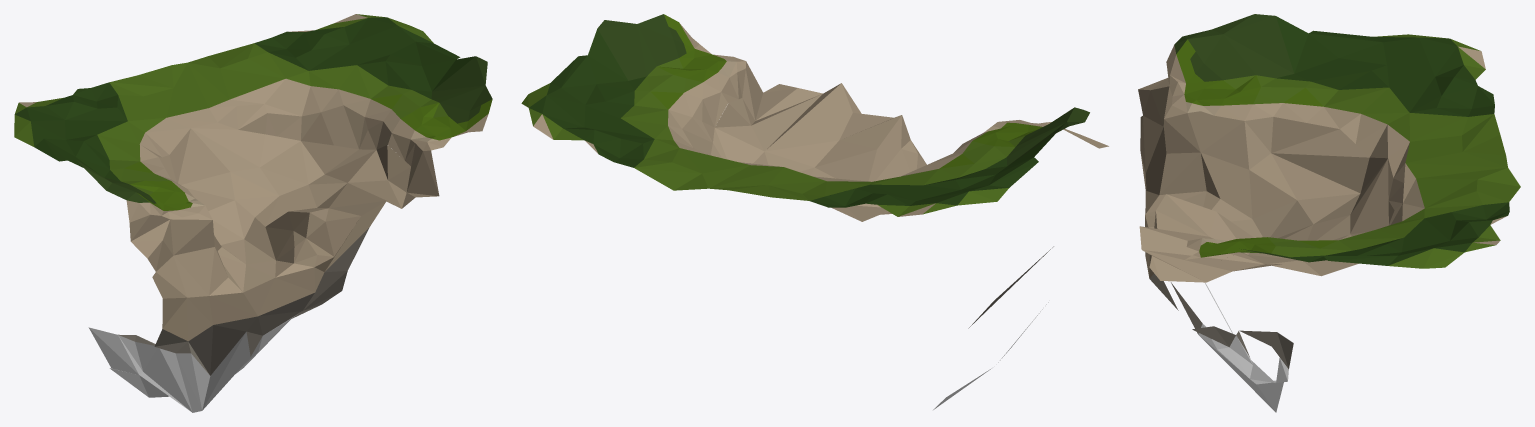
Rendered from lpLake.gltf.
3 views of the same model, side by side, from view 1: azimuth 30°, elevation 25°; view 2: azimuth 150°, elevation 25°; view 3: azimuth 270°, elevation 25° (orthographic). The views are drawn at different scales.
Visible parts, largest first — view 1: Terrain; view 2: Terrain; view 3: Terrain.
Part boxes in pixels (left/top/right/bottom): Terrain: left=14, top=14, right=492, bottom=412; Terrain: left=521, top=14, right=1108, bottom=409; Terrain: left=1138, top=14, right=1520, bottom=412.
Bounding box in the file's own units: 20.53 × 13.33 × 14.18.
